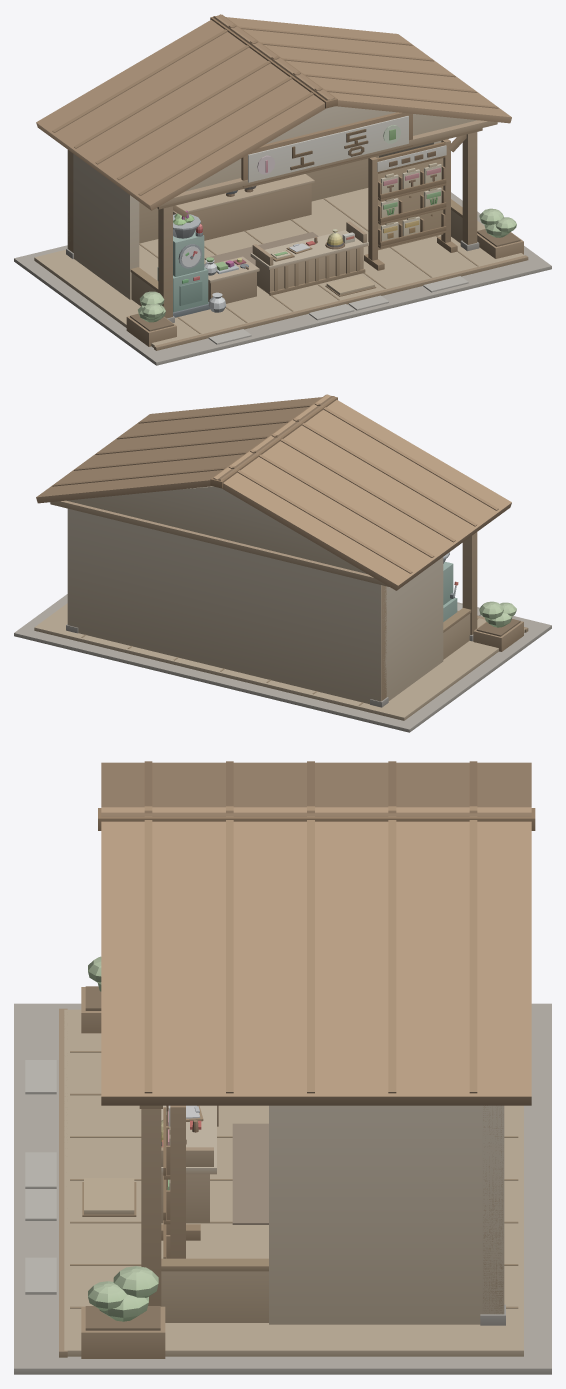
File: reception.glb
3 views of the same model, one above another, from view 1: azimuth 30°, elevation 25°; view 2: azimuth 150°, elevation 25°; view 3: azimuth 270°, elevation 25° (orthographic). The views are drawn at different scales.
Visible parts, largest first — view 1: reception_root; view 2: reception_root; view 3: reception_root.
Boxes of the visible parts, <box> form: reception_root: <box>14,14,551,365</box>; reception_root: <box>14,394,551,732</box>; reception_root: <box>14,761,551,1374</box>.
Size of the model in its own units: 15.4 by 7.55 by 9.6.
